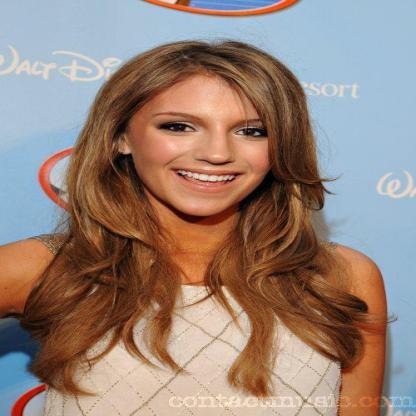long-hair: (48, 216, 340, 269)
